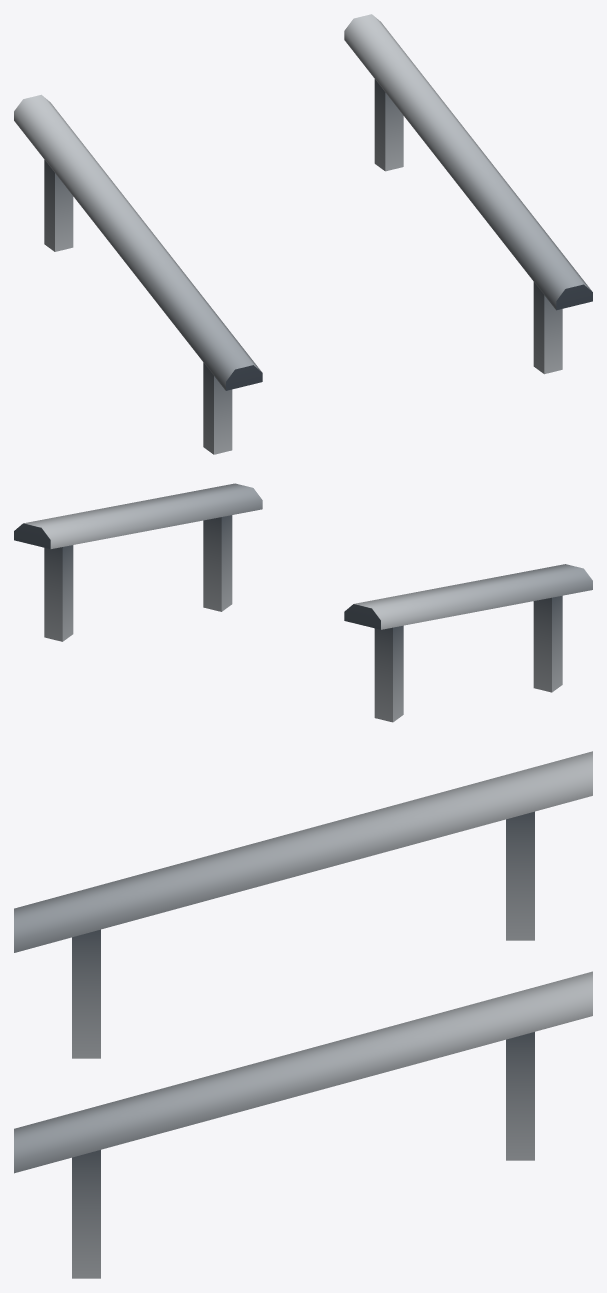
File: stairs-handrail.glb
The picture shows the model from 3 angles, top to bottom: view 1: azimuth 30°, elevation 25°; view 2: azimuth 150°, elevation 25°; view 3: azimuth 270°, elevation 25°; orthographic projection. The views are drawn at different scales.
Parts seen in each view (by area): view 1: stairs-handrail; view 2: stairs-handrail; view 3: stairs-handrail.
Part boxes in pixels (x1,y1,x2,y2): stairs-handrail: [14, 14, 592, 454]; stairs-handrail: [14, 483, 592, 722]; stairs-handrail: [14, 751, 592, 1278].
Size of the model in its own units: 1 by 0.5625 by 1.
